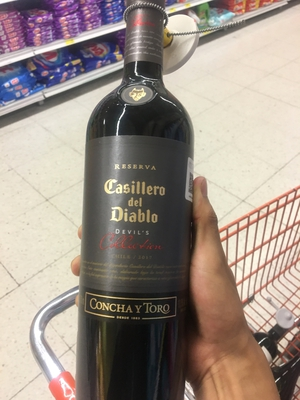casillero del diablo devils collection rojo: (77, 14, 206, 392)
